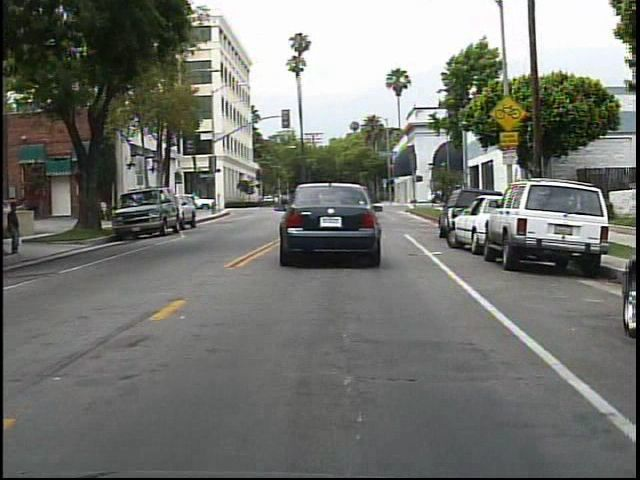person: (8, 196, 28, 255)
